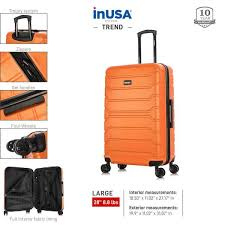suitcase: (99, 29, 180, 175), (2, 165, 66, 217), (1, 90, 46, 120), (1, 14, 48, 42), (1, 53, 46, 80), (6, 131, 46, 159)
